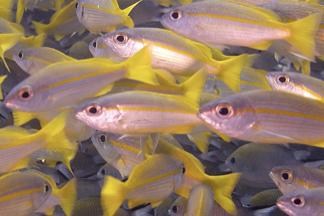Lutjanidae -Snappers-: (3, 44, 163, 112), (194, 88, 324, 167), (159, 0, 322, 62), (103, 25, 243, 90), (96, 153, 186, 216), (76, 90, 207, 131), (205, 0, 312, 26), (0, 170, 55, 216), (69, 0, 144, 30), (275, 181, 324, 216)
